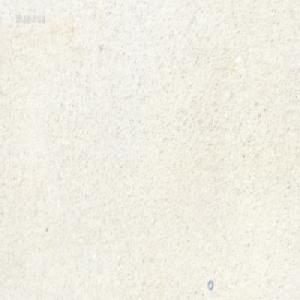Washer: (206, 278, 213, 289)
